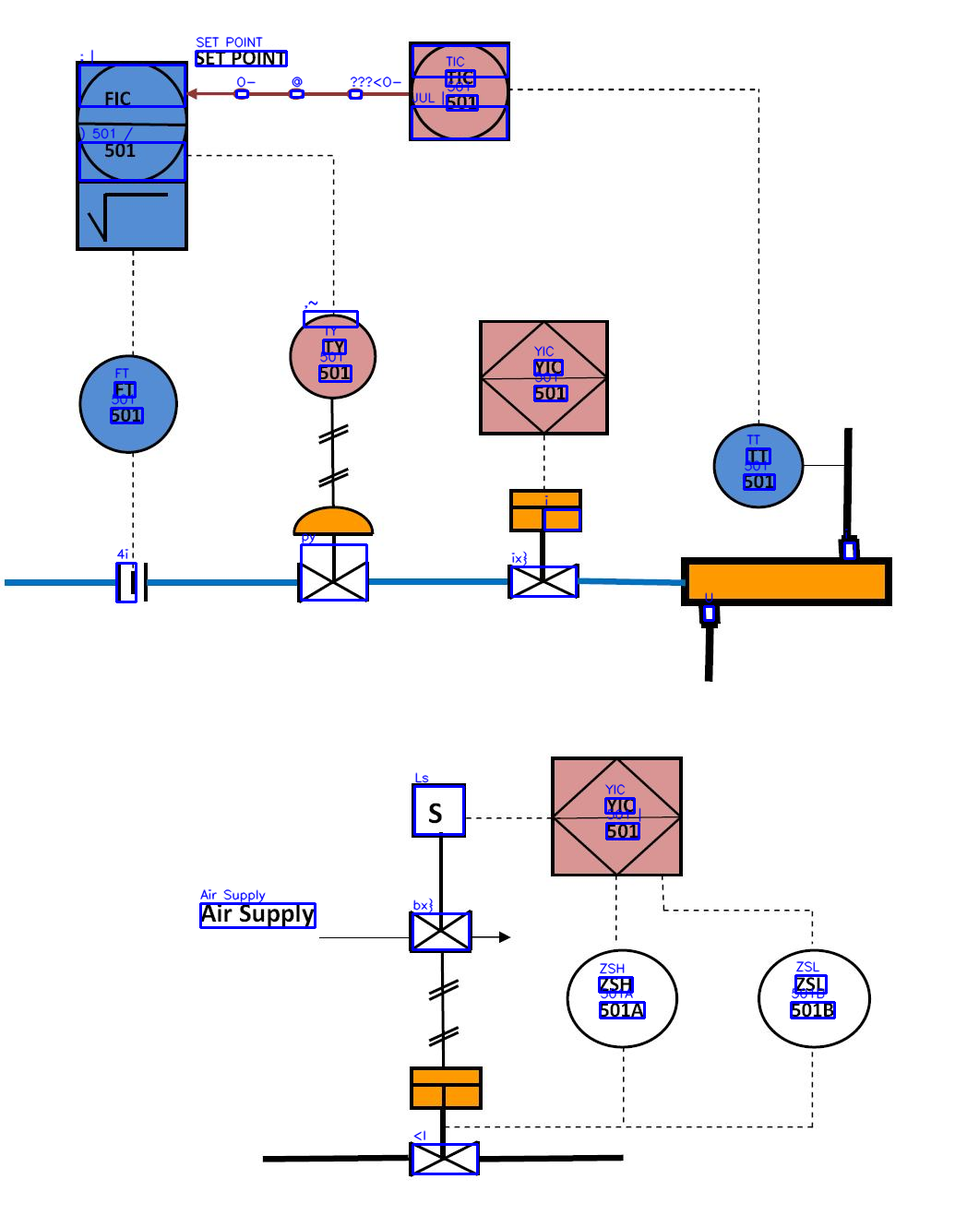Instrumento: (76, 352, 183, 457), (284, 308, 379, 404), (709, 421, 807, 511)
Outro: (71, 56, 192, 255), (547, 754, 687, 879), (473, 316, 615, 439), (755, 943, 875, 1054), (563, 947, 682, 1052), (404, 38, 515, 148)
Válvula: (404, 1060, 487, 1179), (502, 486, 586, 603), (290, 502, 378, 606), (403, 907, 475, 958)
